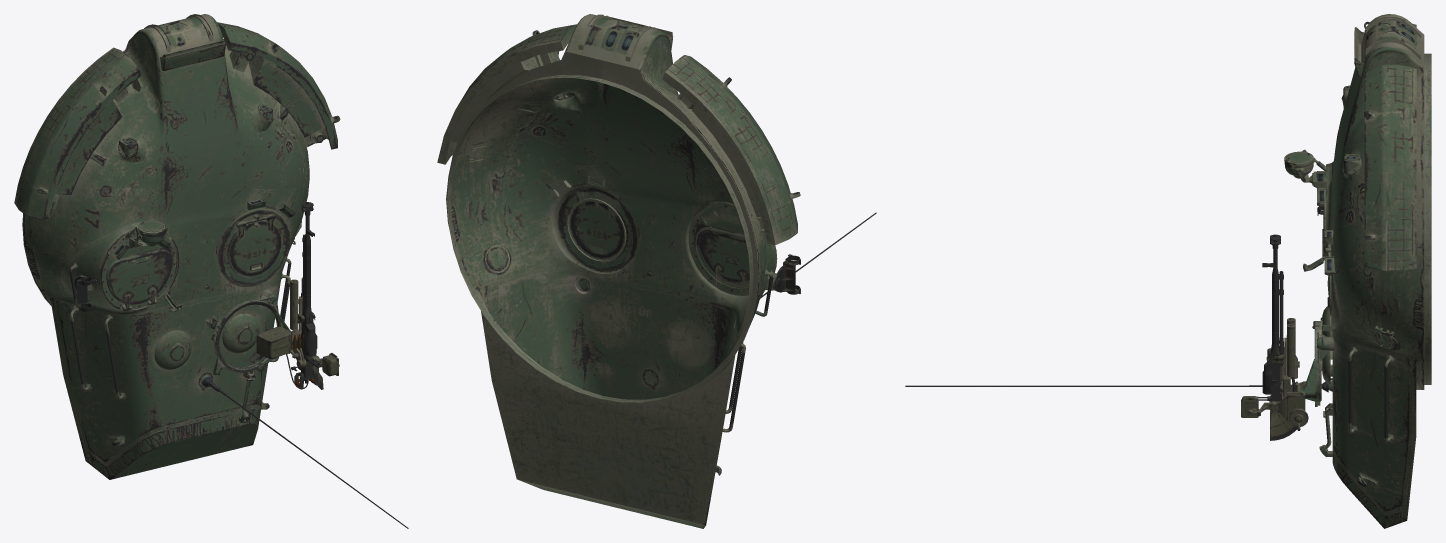
The model's file is Turret_01.glb.
The picture shows the model from 3 angles, left to right: view 1: azimuth 30°, elevation 25°; view 2: azimuth 150°, elevation 25°; view 3: azimuth 270°, elevation 25°; orthographic projection. The views are drawn at different scales.
Visible parts, largest first — view 1: set_0_group_0; view 2: set_0_group_0; view 3: set_0_group_0.
Boxes of the visible parts, bbox=[...] form: set_0_group_0: bbox=[14, 14, 408, 528]; set_0_group_0: bbox=[437, 14, 876, 528]; set_0_group_0: bbox=[905, 14, 1431, 528].
Size of the model in its own units: 2.98 by 4.01 by 4.13.
1 material, 1 textured.
